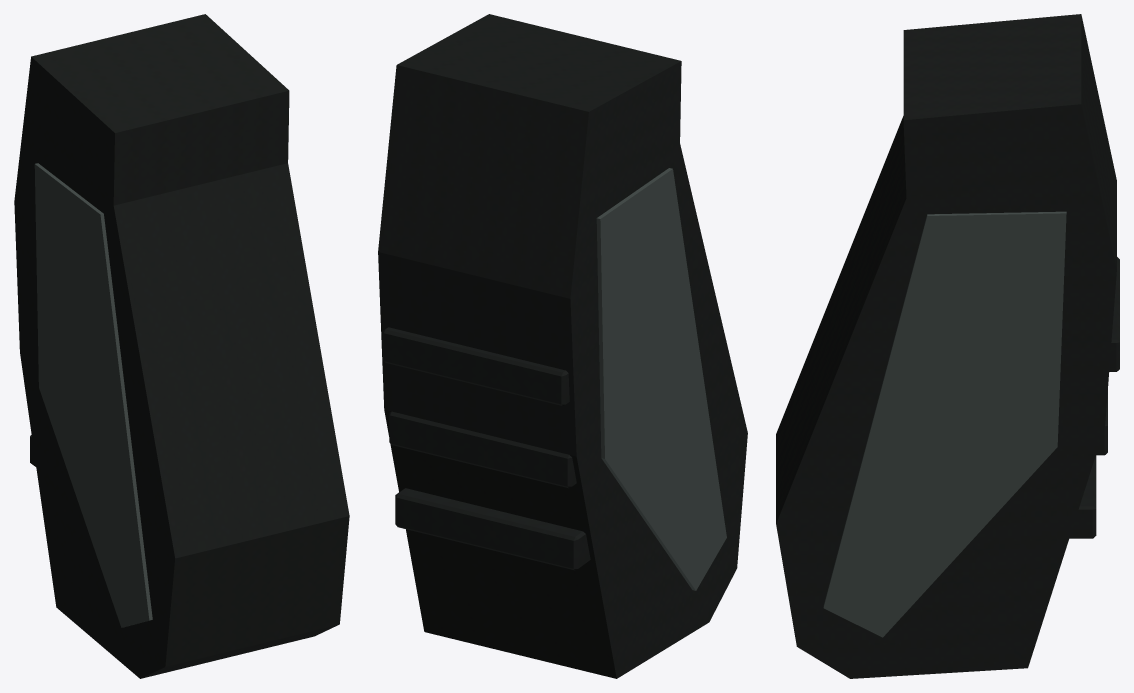
Rendered from val_ergo.glb.
The picture shows the model from 3 angles, left to right: view 1: azimuth 30°, elevation 25°; view 2: azimuth 150°, elevation 25°; view 3: azimuth 270°, elevation 25°; orthographic projection. The views are drawn at different scales.
Visible parts, largest first — view 1: val_ergo_item_profile, val_ergo_item_profile.001, val_ergo_molded_panel; view 2: val_ergo_item_profile, val_ergo_item_profile.001, val_ergo_molded_panel; view 3: val_ergo_item_profile, val_ergo_molded_panel, val_ergo_item_profile.001.
Part boxes in pixels (box(x1,y1,x2,y2)): val_ergo_item_profile: box(16, 34, 343, 674); val_ergo_item_profile.001: box(14, 14, 349, 678); val_ergo_molded_panel: box(34, 163, 152, 627); val_ergo_item_profile: box(383, 18, 744, 661); val_ergo_item_profile.001: box(378, 14, 747, 678); val_ergo_molded_panel: box(596, 168, 726, 590); val_ergo_item_profile: box(776, 18, 1119, 670); val_ergo_molded_panel: box(823, 211, 1066, 637); val_ergo_item_profile.001: box(776, 14, 1116, 678).
Bounding box in the file's own units: 0.0748 × 0.214 × 0.116.
Materials: 2 (1 with a texture image).
